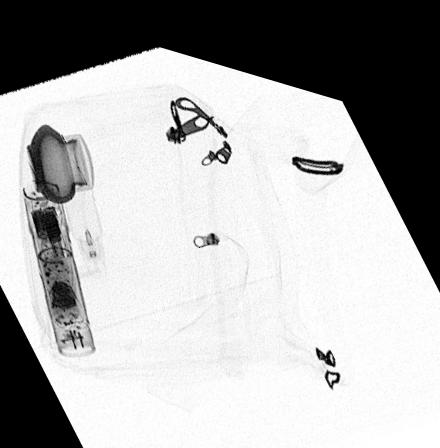Baton: (20, 178, 97, 356)
